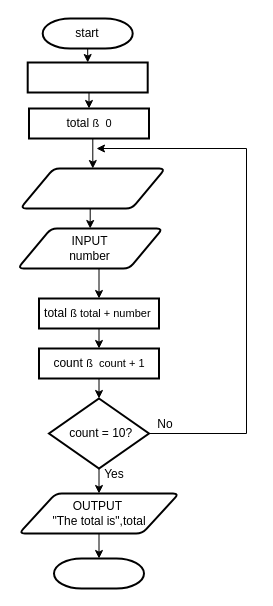
The diagram is 273 pixels wide and 606 high, and some of its shapes have lost their labels. The centre of each missing label's shape, as x and y in pixels:
count ß 0: point 87,77
OUTPUT "Enter a number": point 92,188
stop: point 98,573
